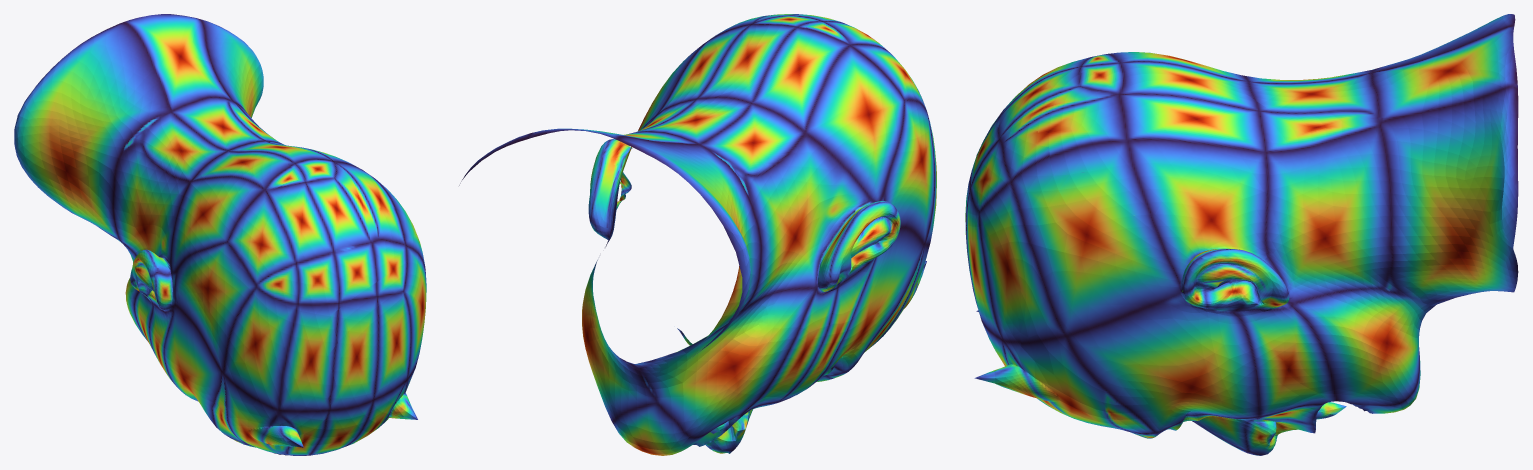
The model's file is gen2.glb.
3 renders of one model, left to right at view 1: azimuth 30°, elevation 25°; view 2: azimuth 150°, elevation 25°; view 3: azimuth 270°, elevation 25°, orthographic. The views are drawn at different scales.
Parts seen in each view (by area): view 1: Node; view 2: Node; view 3: Node.
Part boxes in pixels (x1,y1,x2,y2): Node: (14,14,426,455); Node: (459,14,936,455); Node: (965,14,1518,455).
Size of the model in its own units: 25.03 by 33.47 by 40.
1 material, 1 textured.
